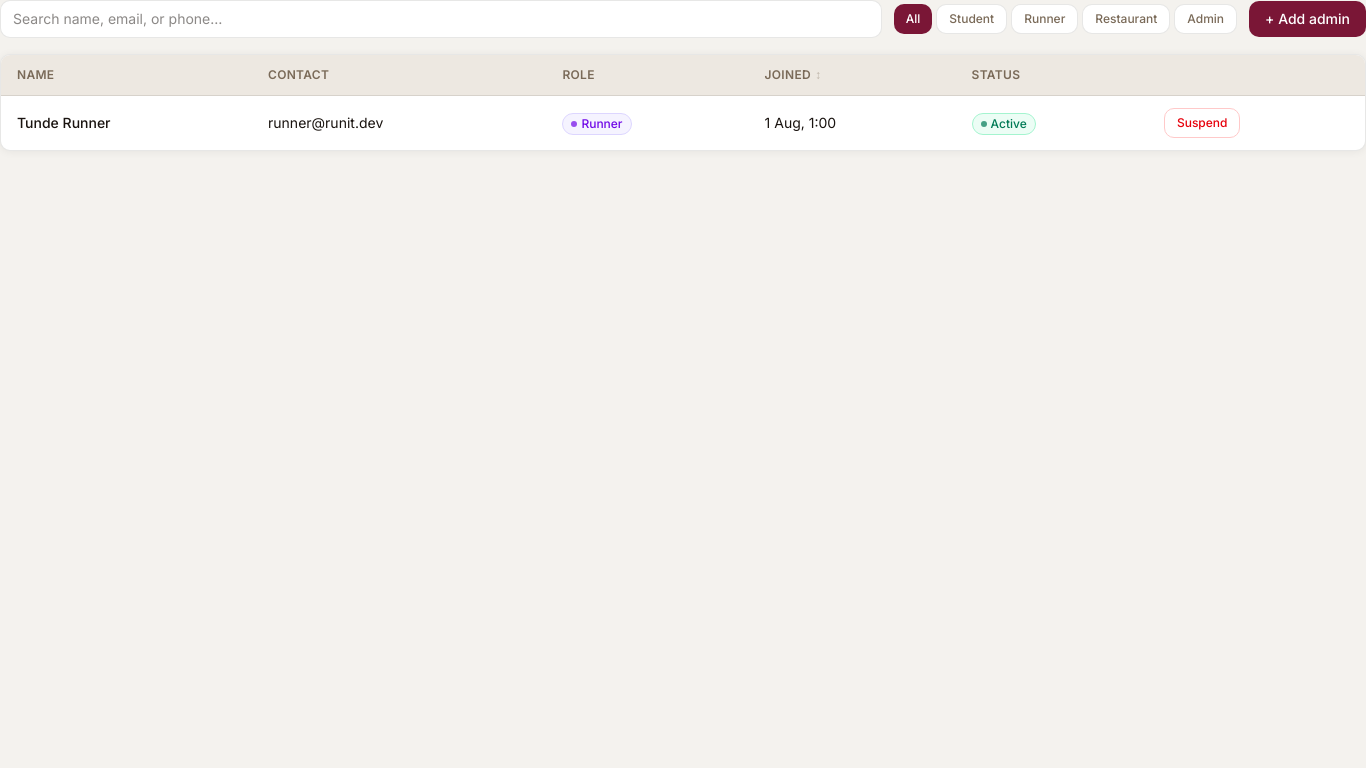
Scenario: Runner cash-collection debt visibility and settlement › shows a runner's real outstanding Pay on Delivery debt and settles it only after confirmation
Click the text "Tunde Runner".
click(64, 122)  # box left=17, top=114, right=110, bottom=131
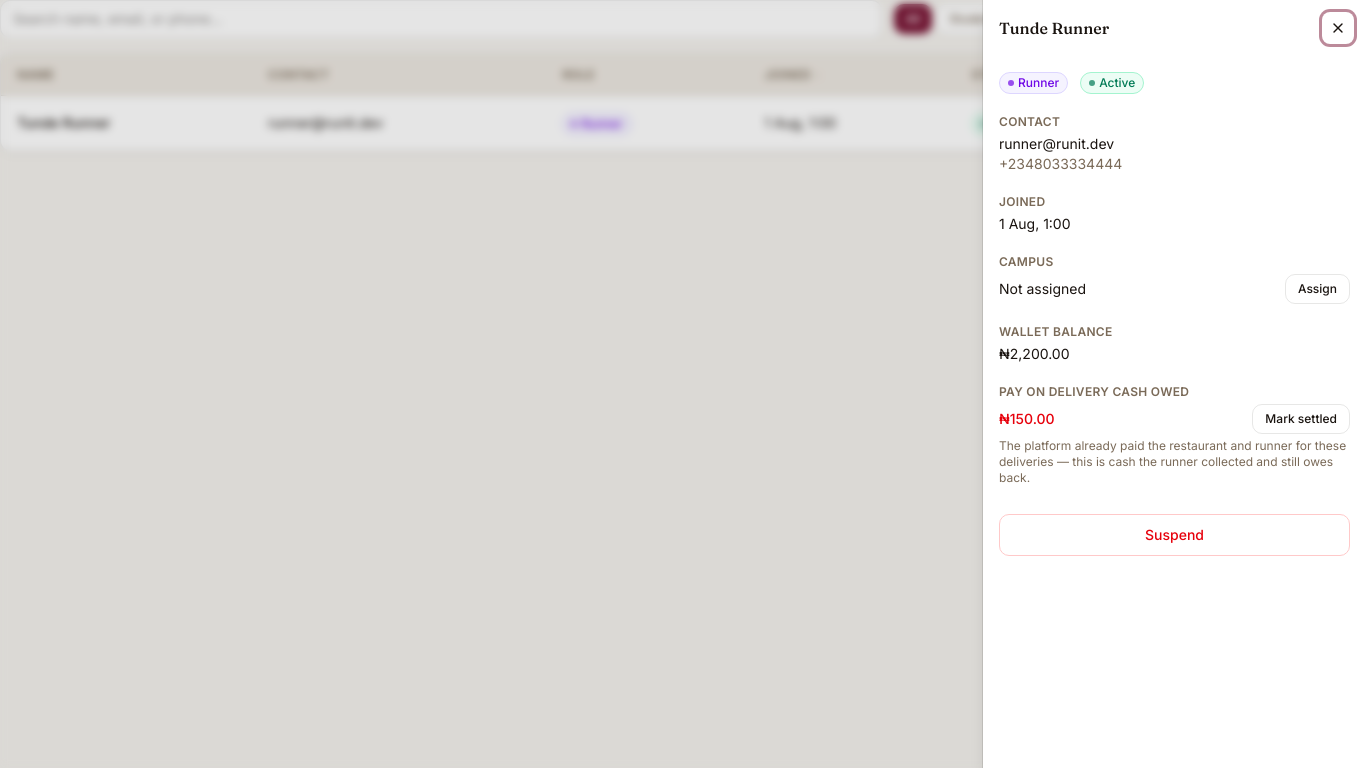
Expected: the text "Pay on Delivery cash owed" is shown, left=999, top=384, right=1189, bottom=399
Expected: the text "₦150.00" is shown, left=999, top=409, right=1055, bottom=429
Click the button "Mark settled".
click(1301, 419)  # box left=1252, top=404, right=1350, bottom=434
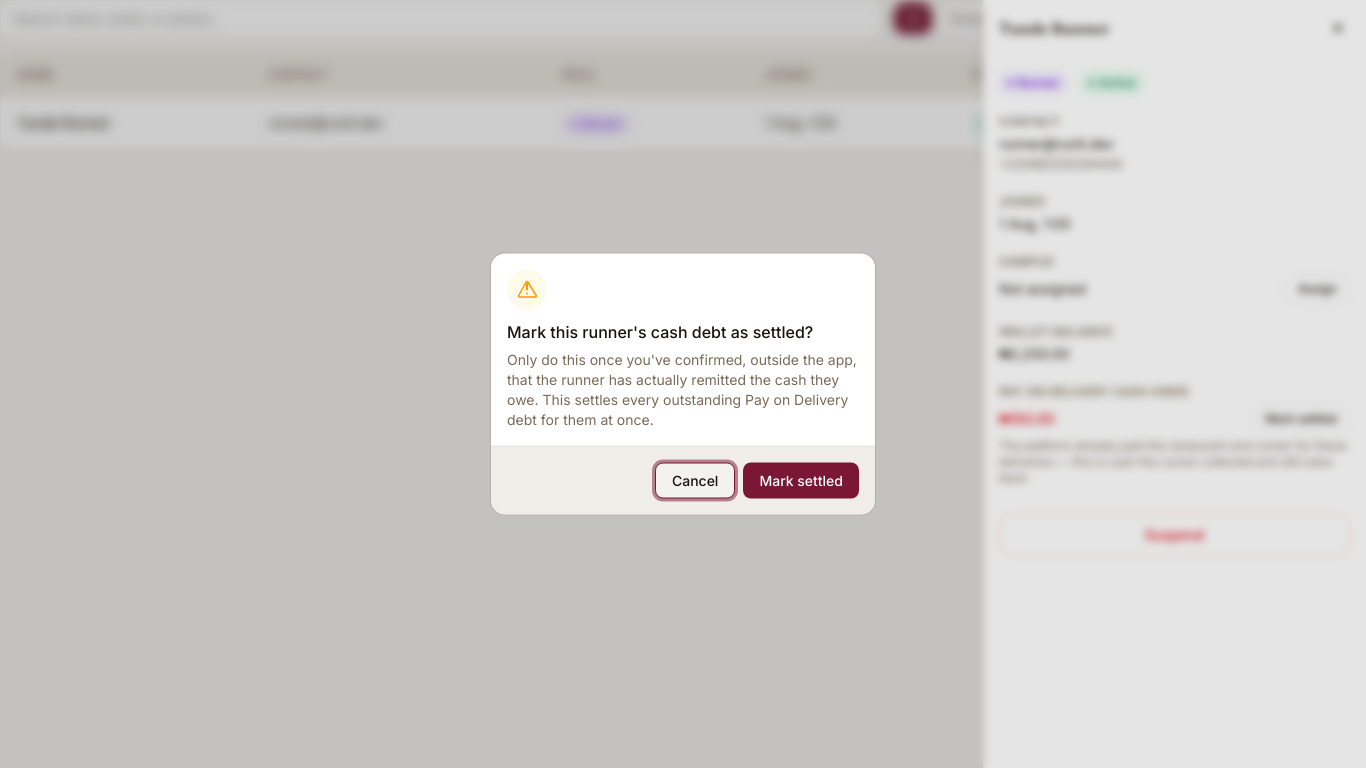
Expected: the text "confirmed, outside the app" is shown, left=507, top=350, right=857, bottom=428
Click the button "Mark settled".
click(801, 480)  # box left=743, top=462, right=859, bottom=498
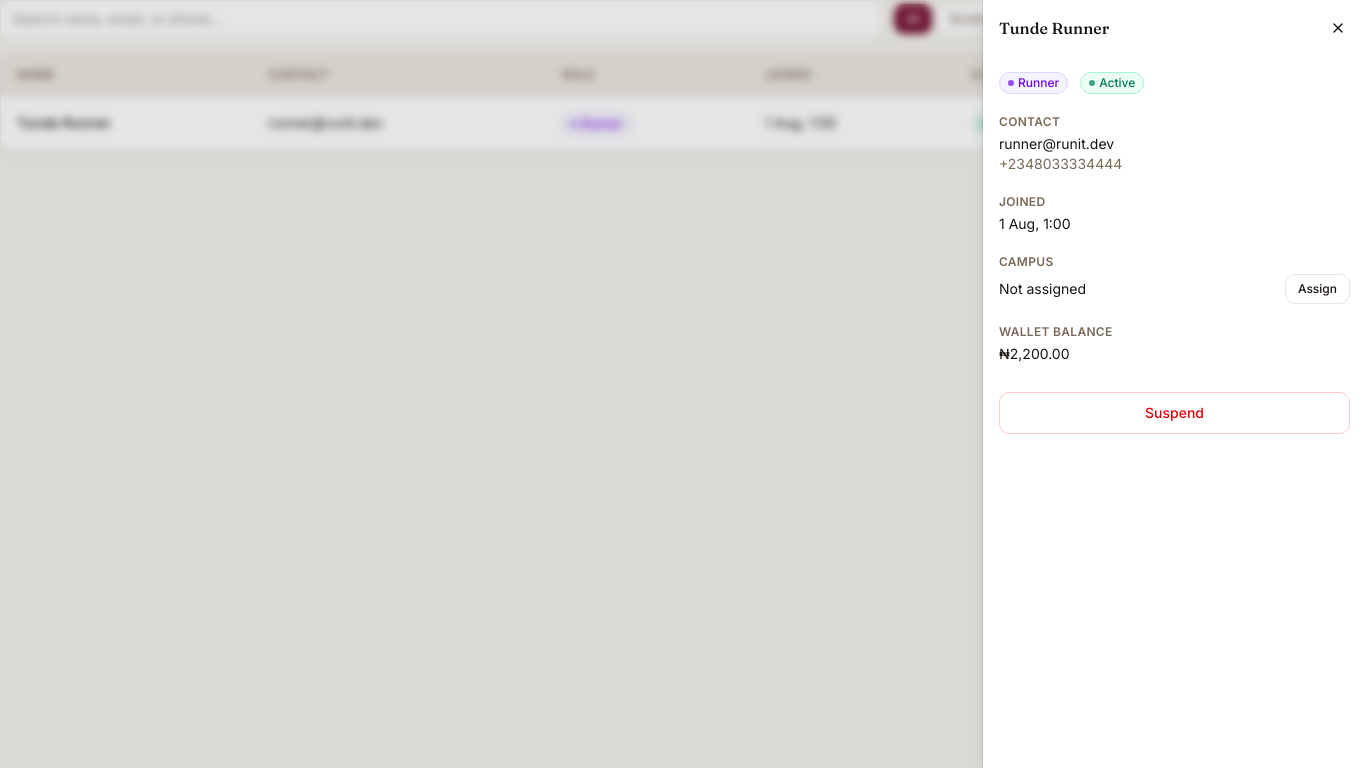
Expected: the text "Pay on Delivery cash owed" is gone
